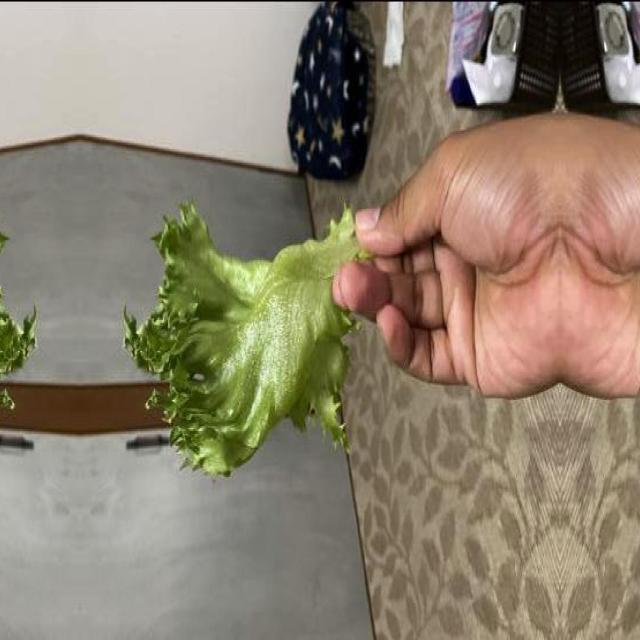healthy: (122, 200, 380, 488), (0, 200, 38, 487)
